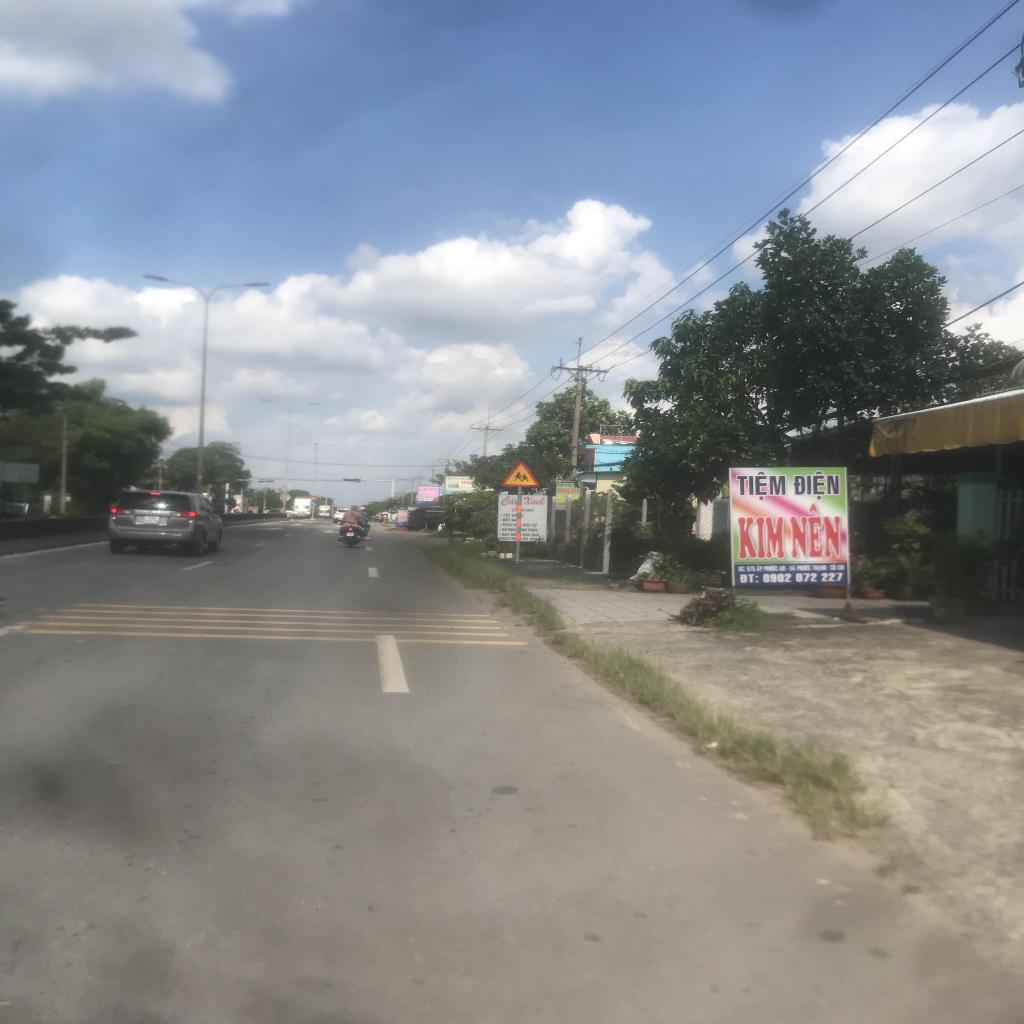cam_xe_di_nguoc_chieu: (310, 495, 318, 500)
chu_y_tre_em: (500, 460, 543, 488)
huong_phai_di_vuot_chuong_ngai_vat_phai: (310, 501, 318, 506)
